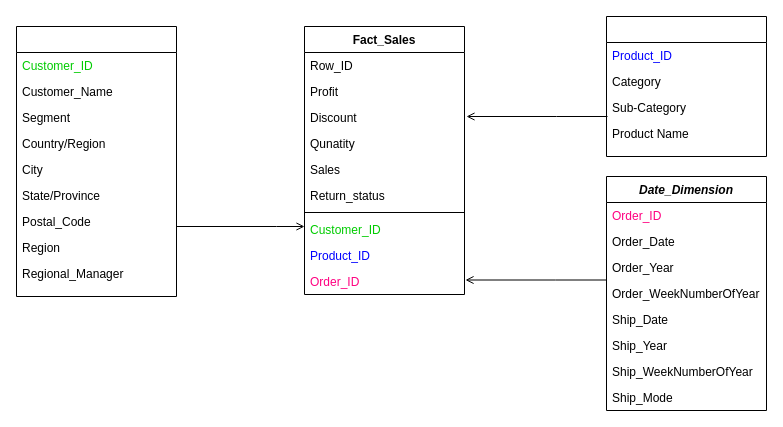
Image size: 783x427. Some labels were removed from this diagram. Here are the shapes that lost their labels. From the top down, the box of each, then its label:
(606, 16, 766, 156): Product_Dimension
(16, 26, 176, 296): Customer_Dimension
